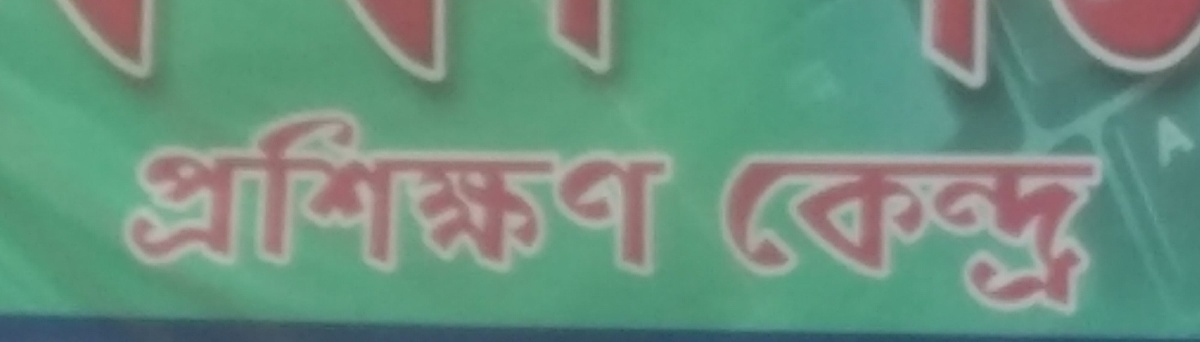text: (721, 143, 736, 320), (737, 143, 752, 320), (753, 143, 768, 320), (769, 143, 784, 320), (785, 143, 800, 320), (801, 143, 816, 320), (817, 143, 832, 320), (833, 143, 848, 320), (849, 143, 864, 320), (865, 143, 880, 320), (881, 143, 896, 320), (897, 143, 912, 320), (913, 143, 928, 320), (929, 143, 944, 320), (945, 143, 960, 320), (961, 143, 976, 320), (977, 143, 992, 320), (993, 143, 1008, 320), (1009, 143, 1024, 320), (1025, 143, 1040, 320), (1041, 143, 1056, 320), (1057, 143, 1072, 320), (1073, 143, 1088, 320), (129, 106, 144, 281), (145, 106, 160, 281), (161, 106, 176, 281), (177, 106, 192, 281), (193, 106, 208, 281), (209, 106, 224, 281), (225, 106, 240, 281), (241, 106, 256, 281), (257, 106, 272, 281), (273, 106, 288, 281), (289, 106, 304, 281), (305, 106, 320, 281), (321, 106, 336, 281), (337, 106, 352, 281), (353, 106, 368, 281), (369, 106, 384, 281), (385, 106, 400, 281), (401, 106, 416, 281), (417, 106, 432, 281), (433, 106, 448, 281), (449, 106, 464, 281), (465, 106, 480, 281), (481, 106, 496, 281), (497, 106, 512, 281), (513, 106, 528, 281), (529, 106, 544, 281), (545, 106, 560, 281), (561, 106, 576, 281), (577, 106, 592, 281), (593, 106, 608, 281), (609, 106, 624, 281), (625, 106, 640, 281), (641, 106, 656, 281), (657, 106, 672, 281), (1089, 143, 1102, 320), (929, 2, 944, 107), (945, 2, 960, 107), (961, 2, 976, 107), (977, 2, 992, 107), (49, 2, 64, 90), (65, 2, 80, 90), (81, 2, 96, 90), (97, 2, 112, 90), (113, 2, 128, 90), (129, 2, 144, 90), (145, 2, 160, 90), (353, 2, 368, 89), (369, 2, 384, 89), (385, 2, 400, 89), (401, 2, 416, 89), (417, 2, 432, 89), (433, 2, 448, 89), (545, 4, 560, 90), (561, 4, 576, 90), (577, 4, 592, 90), (593, 4, 608, 90), (1057, 1, 1072, 80), (1073, 1, 1088, 80), (1089, 1, 1104, 80), (1105, 1, 1120, 80), (1121, 1, 1136, 80), (1137, 1, 1152, 80), (1153, 1, 1168, 80), (1169, 1, 1184, 80), (339, 2, 352, 89), (1185, 1, 1199, 80), (1153, 115, 1168, 181), (1169, 115, 1184, 181), (919, 2, 928, 107), (1185, 115, 1199, 181), (673, 106, 678, 281), (609, 4, 619, 90), (449, 2, 458, 89), (1049, 1, 1056, 80), (125, 106, 128, 281), (993, 2, 997, 107), (1149, 115, 1152, 181), (161, 2, 163, 90), (47, 2, 48, 90)
